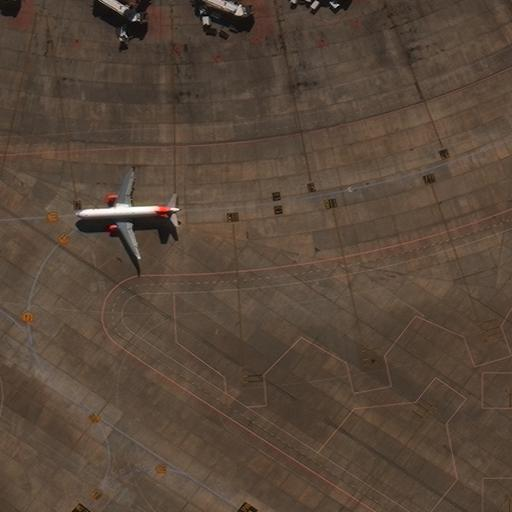Medium Civil Transport: (73, 169, 178, 256)
